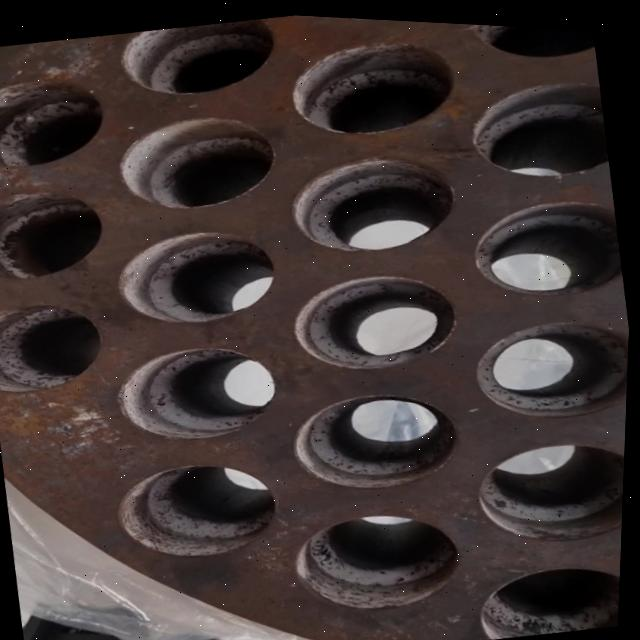Hole: (290, 375, 471, 500), (284, 138, 464, 263), (287, 256, 468, 380), (291, 495, 470, 619), (114, 447, 289, 570), (283, 24, 462, 144), (112, 214, 285, 335), (112, 332, 285, 450), (112, 102, 284, 220), (469, 302, 632, 426), (473, 421, 628, 549), (466, 184, 629, 304), (465, 67, 614, 185), (115, 8, 283, 106), (477, 543, 625, 640), (0, 67, 115, 178), (0, 181, 114, 289), (0, 293, 112, 400), (464, 19, 596, 65), (292, 12, 454, 29)
